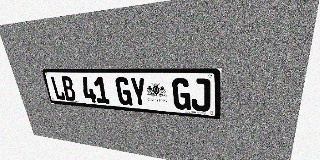1: (92, 77, 110, 104)
4: (80, 76, 97, 103)
B: (60, 76, 77, 101)
G: (172, 78, 191, 110), (115, 77, 133, 106)
J: (191, 78, 210, 112)
L: (50, 76, 66, 100)
Y: (129, 77, 148, 107)
